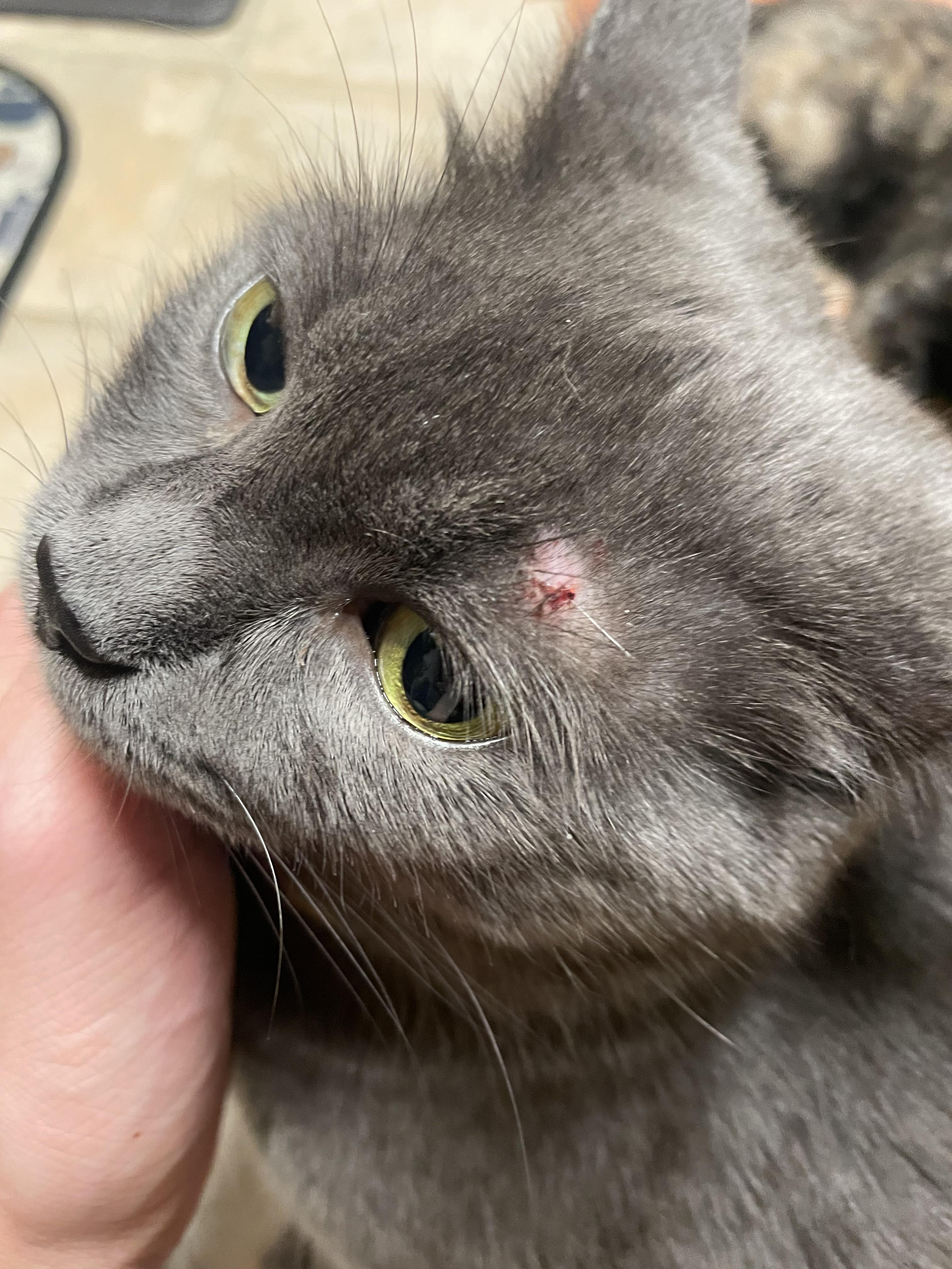cut: (469, 536, 649, 729)
